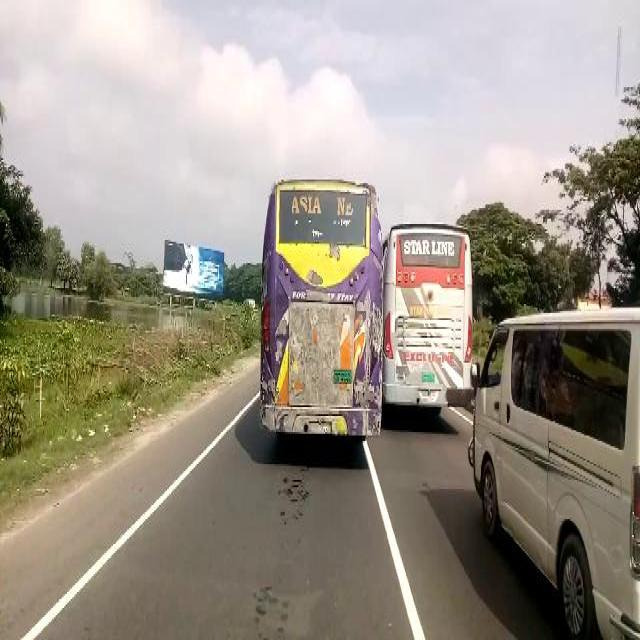bus: (260, 175, 382, 437), (386, 218, 474, 415)
van: (467, 312, 639, 634)
